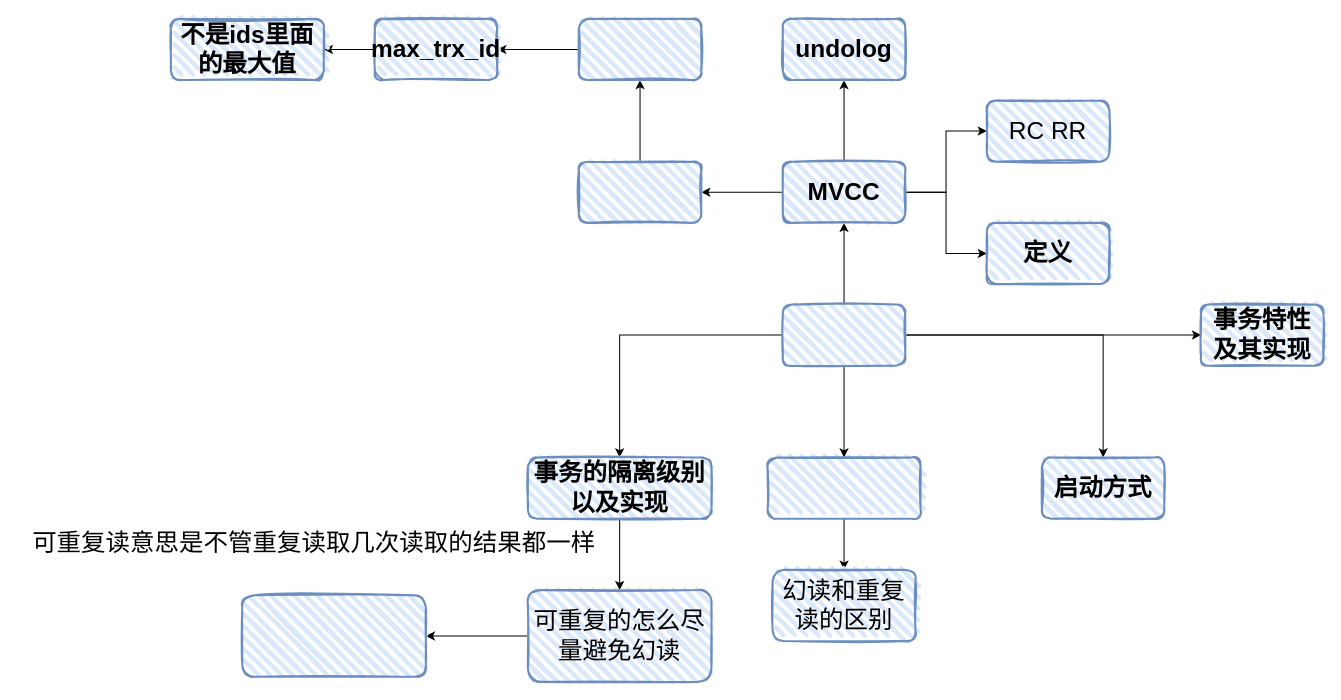
This 1341x700 diagram has some shape labels left out. The box of each missing label's shape, as (x1, y1, x2, y2) in pixels:
ReadView: (577, 160, 702, 223)
事务: (781, 303, 906, 366)
可重复读真的完全避免了幻读吗: (241, 594, 426, 677)
属性: (577, 17, 702, 81)
并发事务出现的问题: (766, 456, 921, 519)
